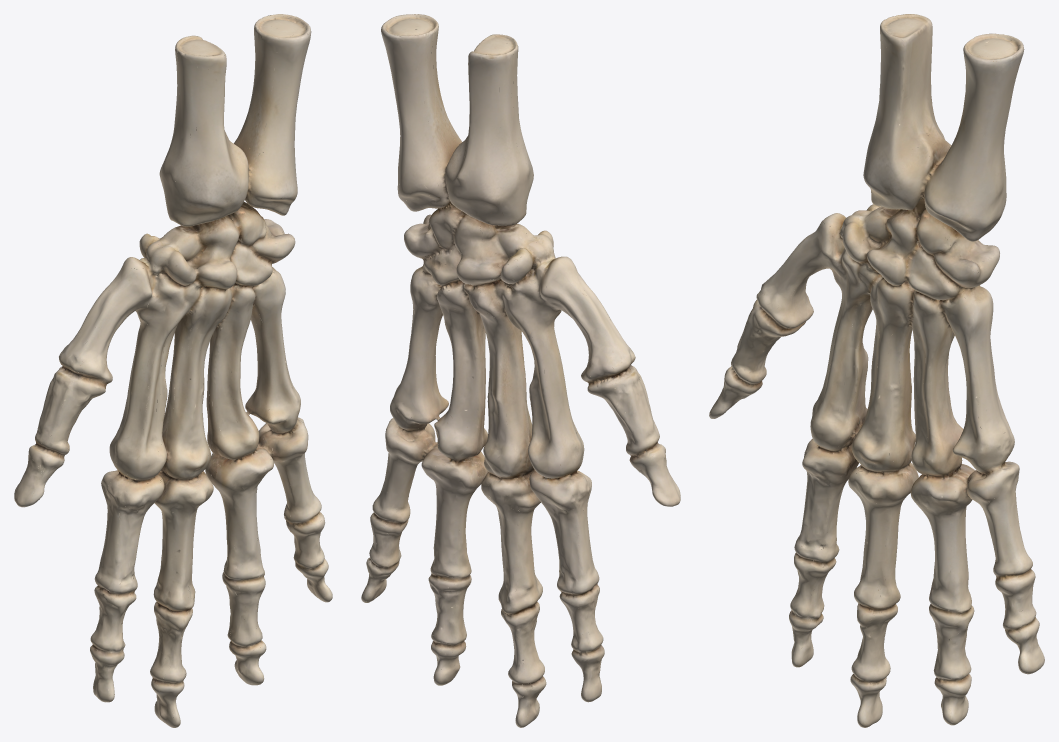
File: human_hand_bones.glb
3 renders of one model, left to right at view 1: azimuth 30°, elevation 25°; view 2: azimuth 150°, elevation 25°; view 3: azimuth 330°, elevation 25°, orthographic. The views are drawn at different scales.
Size of the model in its own units: 0.9705 by 2 by 0.2543.
1 material, 1 textured.
